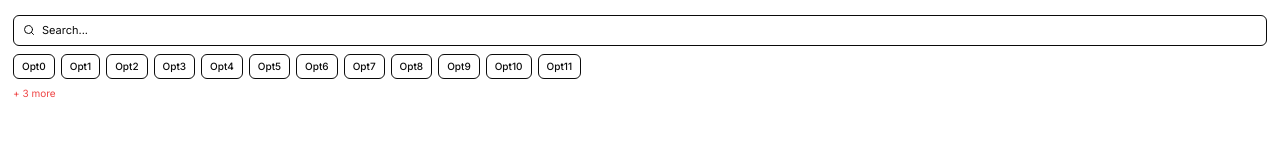
Scenario: ChipMultiSelect › 'Show less' collapses back
Click the button "+ 3 more": [34, 93] box 13,86 -> 56,100
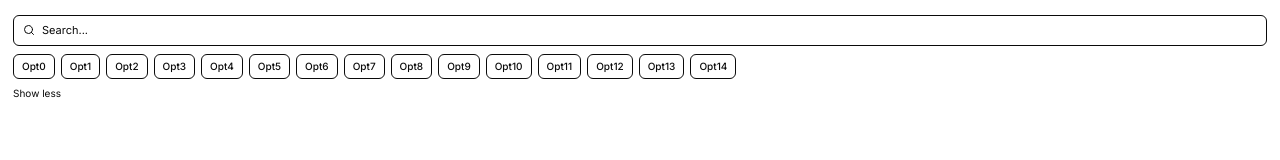
Click the button "Show less": [37, 93] box 13,86 -> 61,100
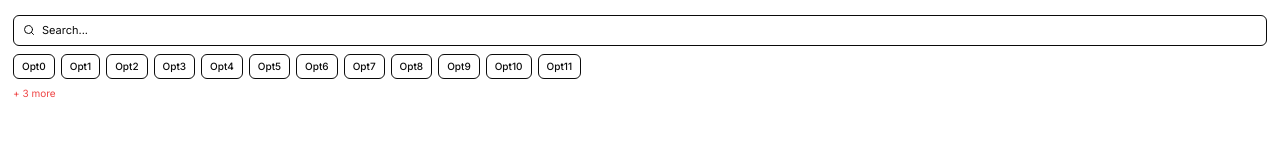
Expected: the button "+ 3 more" is shown, 13,86 -> 56,100
